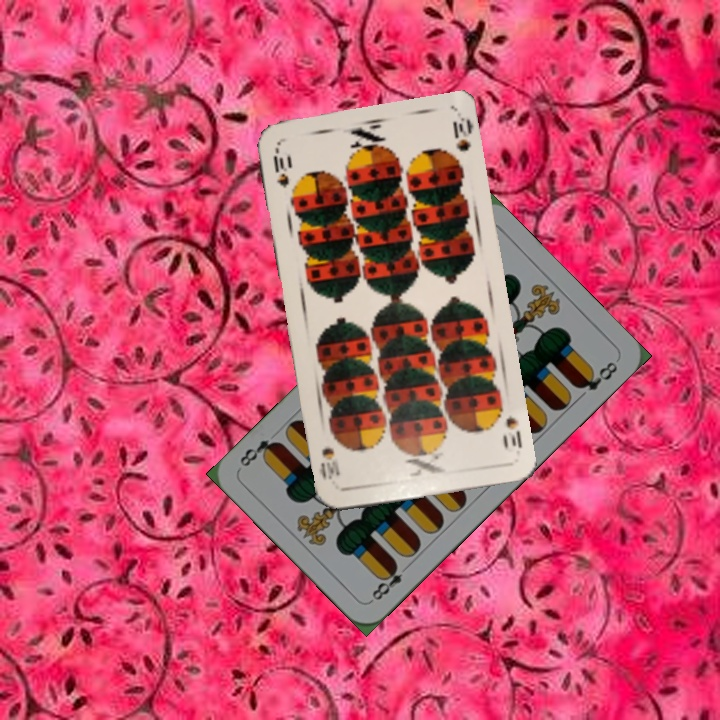E8: (366, 559, 414, 605)
S10: (498, 412, 525, 453), (269, 144, 292, 190)
